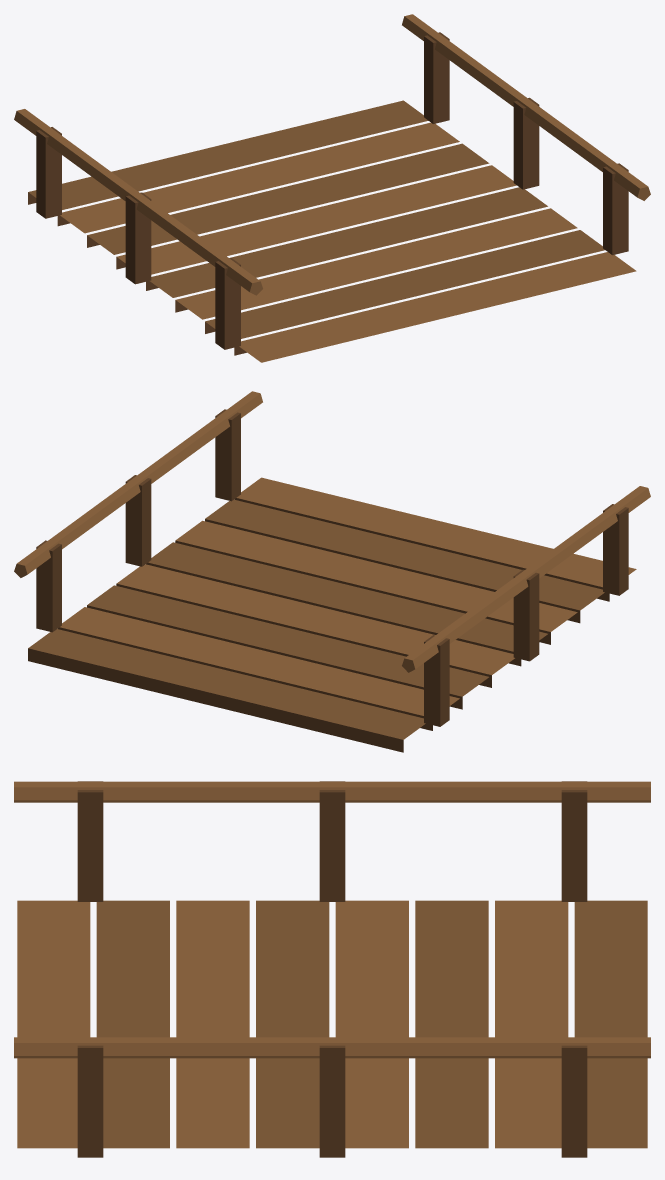
File: bridge_deck.glb
3 renders of one model, top to bottom at view 1: azimuth 30°, elevation 25°; view 2: azimuth 150°, elevation 25°; view 3: azimuth 270°, elevation 25°, orthographic. The views are drawn at different scales.
Parts seen in each view (by area): view 1: bridge_deck; view 2: bridge_deck; view 3: bridge_deck.
Boxes of the visible parts, x1,y1,x2,y2 form: bridge_deck: (14, 14, 650, 362); bridge_deck: (14, 391, 650, 752); bridge_deck: (14, 781, 650, 1157).
Size of the model in its own units: 1.98 by 0.4483 by 2.
